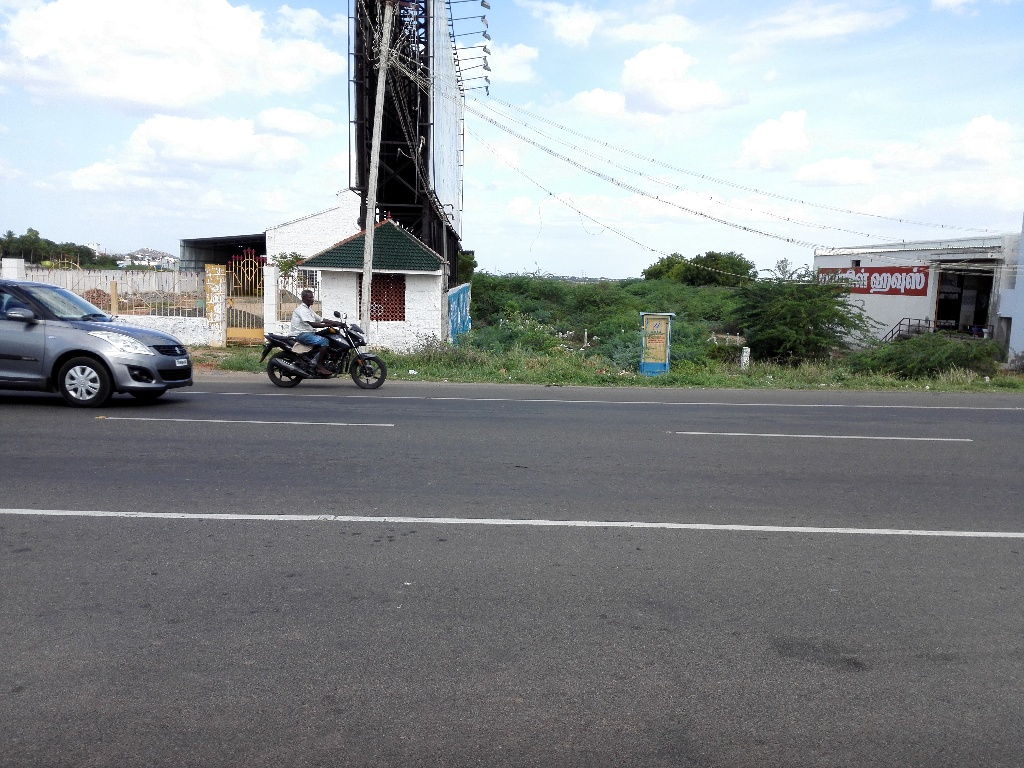biker: (246, 257, 396, 402)
nohelmet: (296, 285, 325, 315)
